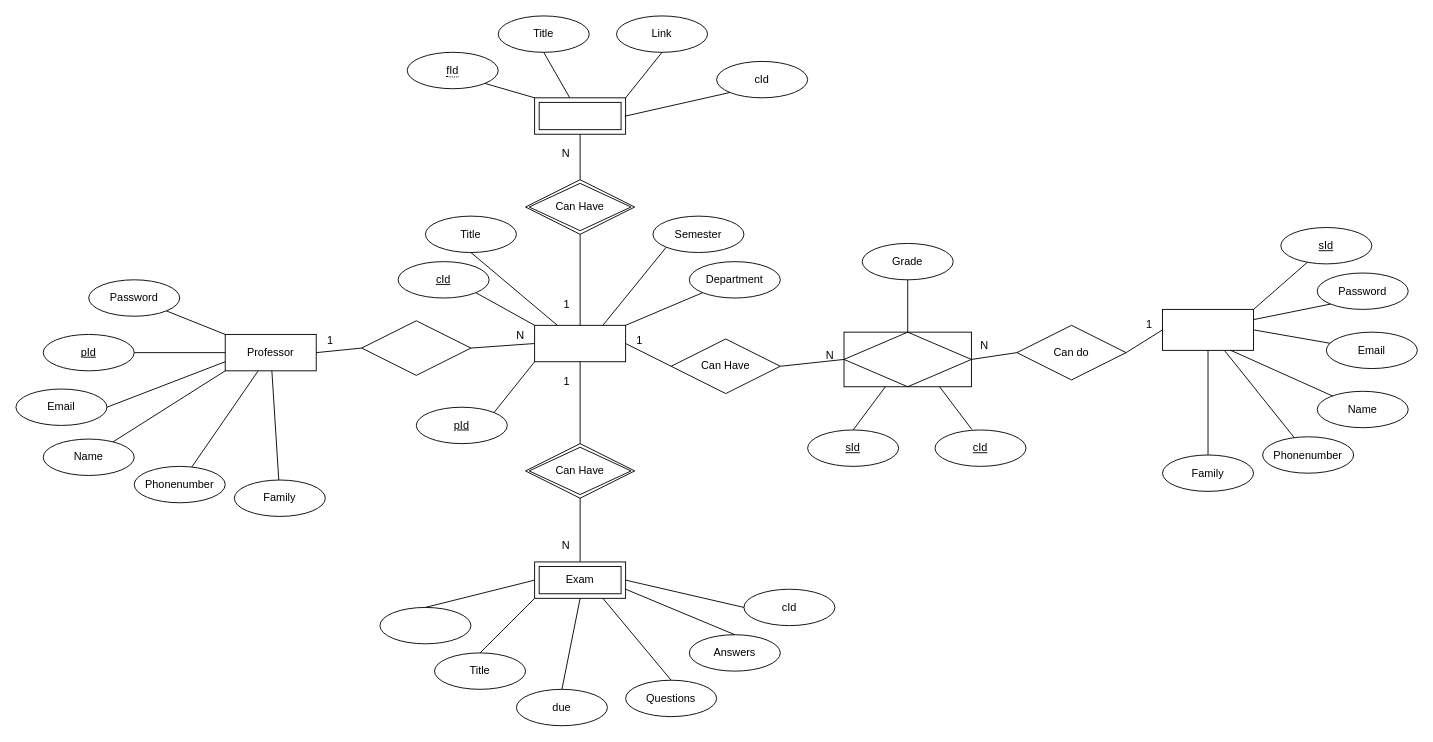
Image size: 1433x742. Some labels were removed from this diagram. Each missing label, with the box of its shape:
Course: (534, 324, 626, 362)
eId: (379, 607, 471, 644)
File: (534, 97, 626, 134)
Registration: (843, 331, 971, 387)
Student: (1162, 308, 1254, 350)
Teaches: (361, 320, 471, 375)
